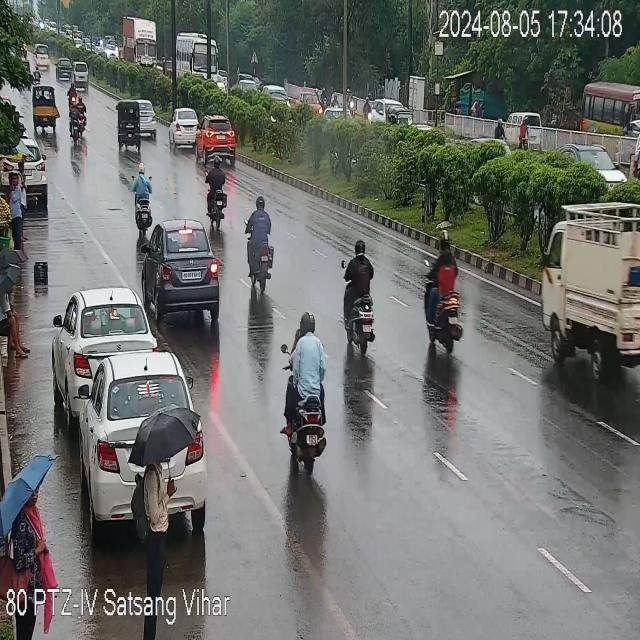2-wheelers: (285, 326, 327, 488), (424, 238, 460, 355), (345, 238, 377, 358), (247, 207, 274, 275), (202, 152, 228, 222), (138, 171, 152, 222)
auto: (117, 102, 141, 150)
bus: (580, 78, 640, 157), (175, 30, 223, 86)
car: (88, 353, 190, 527), (62, 294, 146, 406), (153, 222, 222, 316), (568, 142, 623, 180), (200, 119, 242, 156), (168, 106, 202, 148), (501, 111, 539, 148), (374, 95, 410, 132), (141, 106, 161, 140), (77, 102, 91, 142)
pedestrian: (138, 444, 168, 636), (10, 490, 38, 640), (15, 142, 51, 204), (0, 275, 22, 363), (10, 168, 28, 258)
truck: (537, 199, 640, 351), (124, 19, 160, 70), (31, 80, 57, 132)
